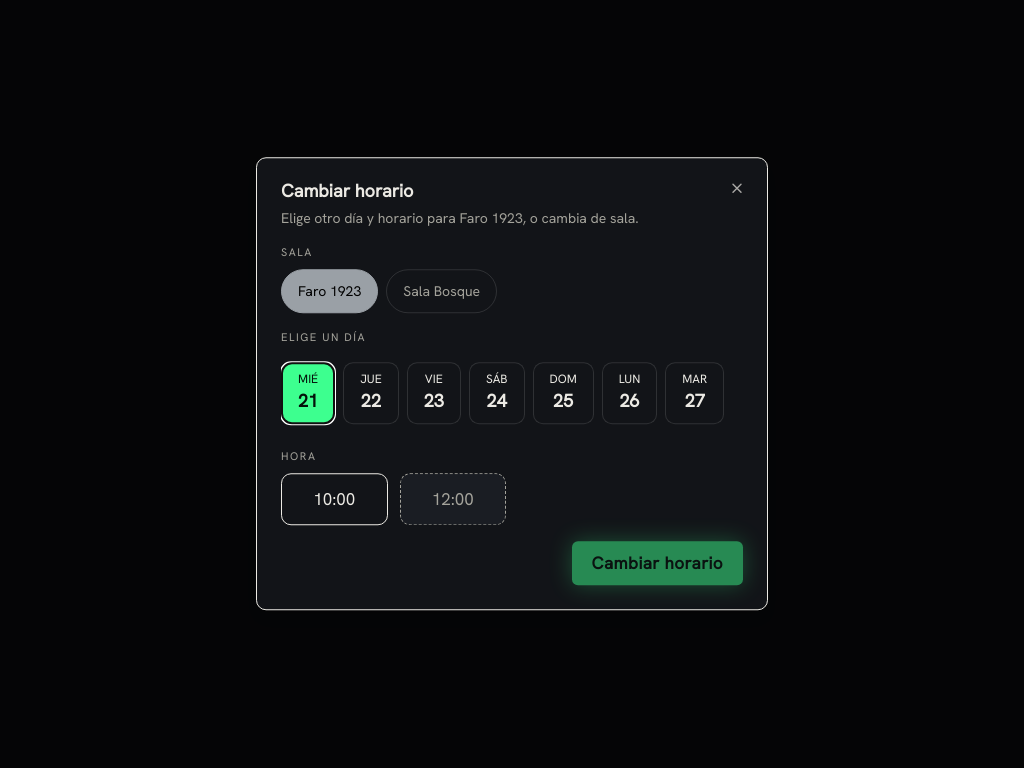
Test: ChangeSlotDialog › shows the too-late message when the new slot is less than 24h away
This screenshot has width=1024, height=768.
Click the button "10:00": coordinates (334, 500) [281,473,388,526]
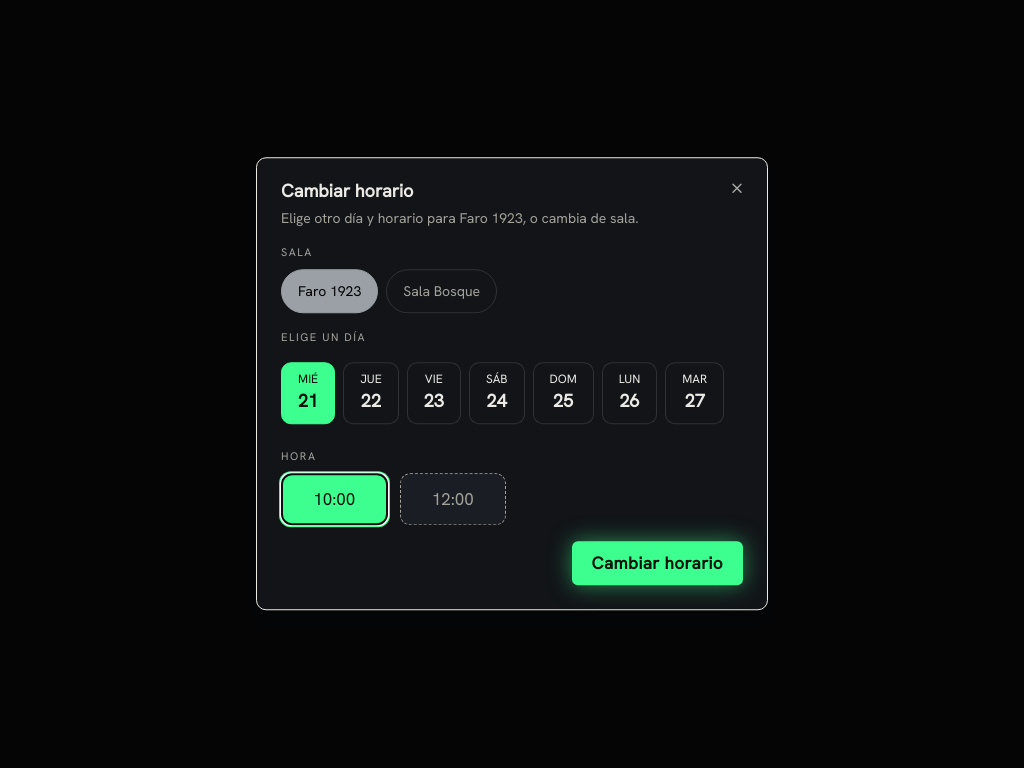
Click the button "Cambiar horario": coordinates (657, 564) [572,542,743,586]
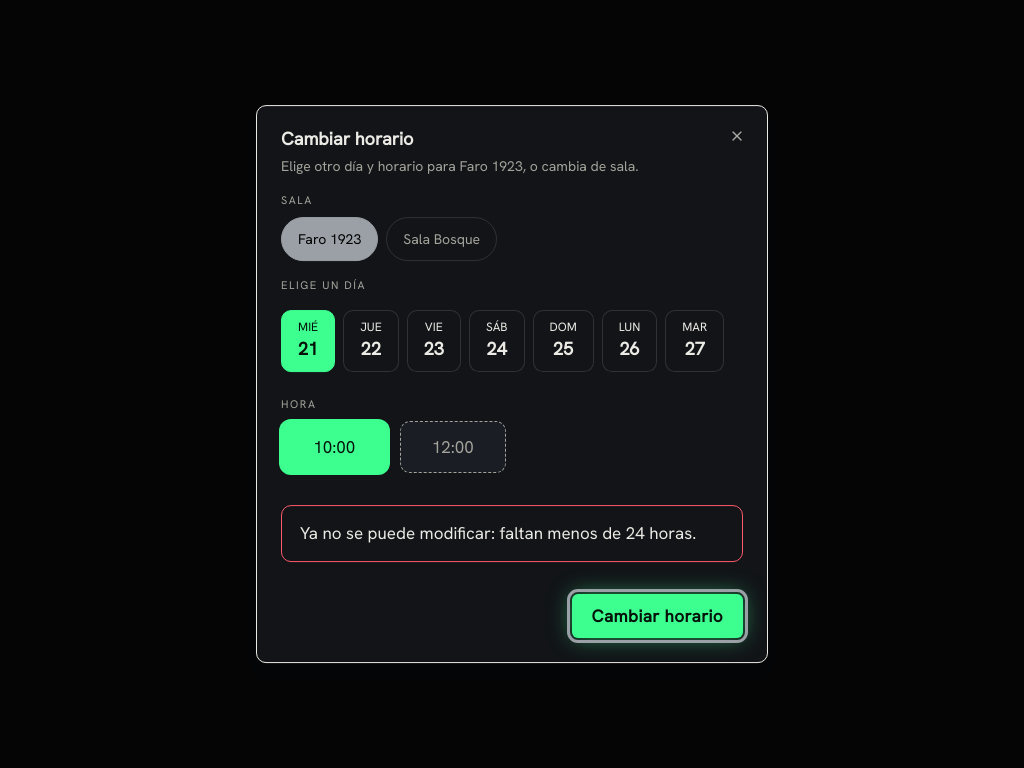
Expected: the message reads "Ya no se puede modificar: faltan menos de 24 horas.", [300,523,696,545]
